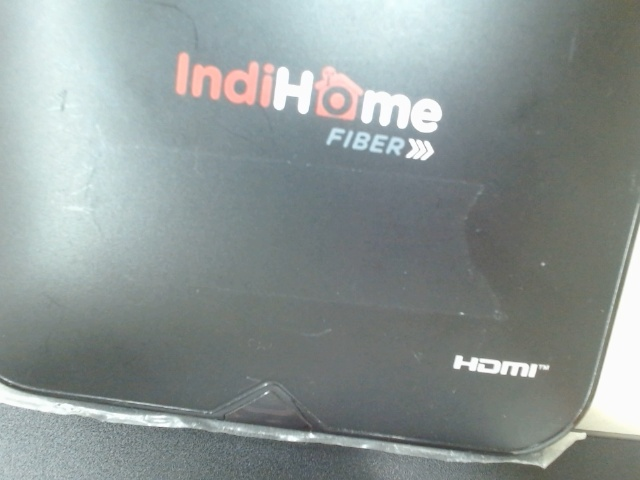AF_IndiHome: (162, 44, 448, 171)
